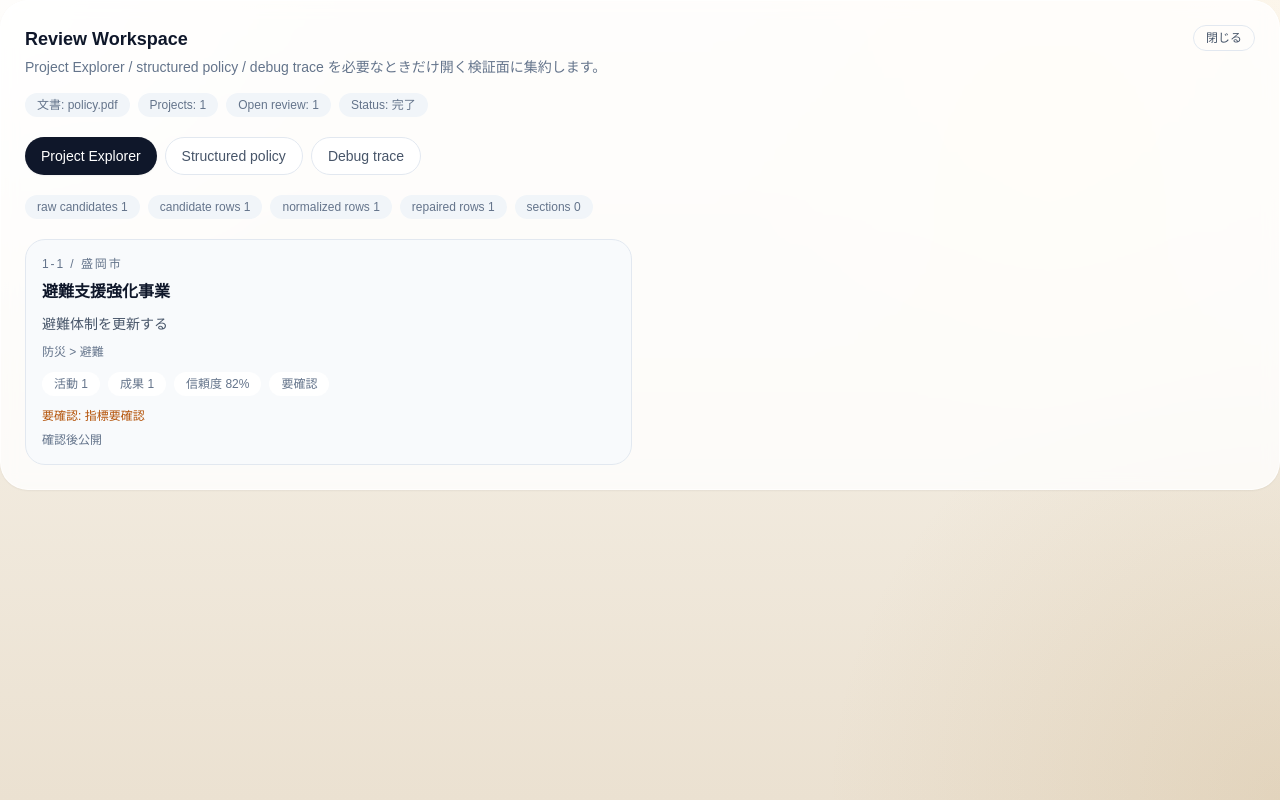
WorkspaceReviewPanel › switches between explorer, policy, and debug views inside the bounded workspace
Check: the heading "避難支援強化事業" is shown, box [42,283,170,300]
Click the button "Structured policy" at (234, 156), box [165,137,303,175]
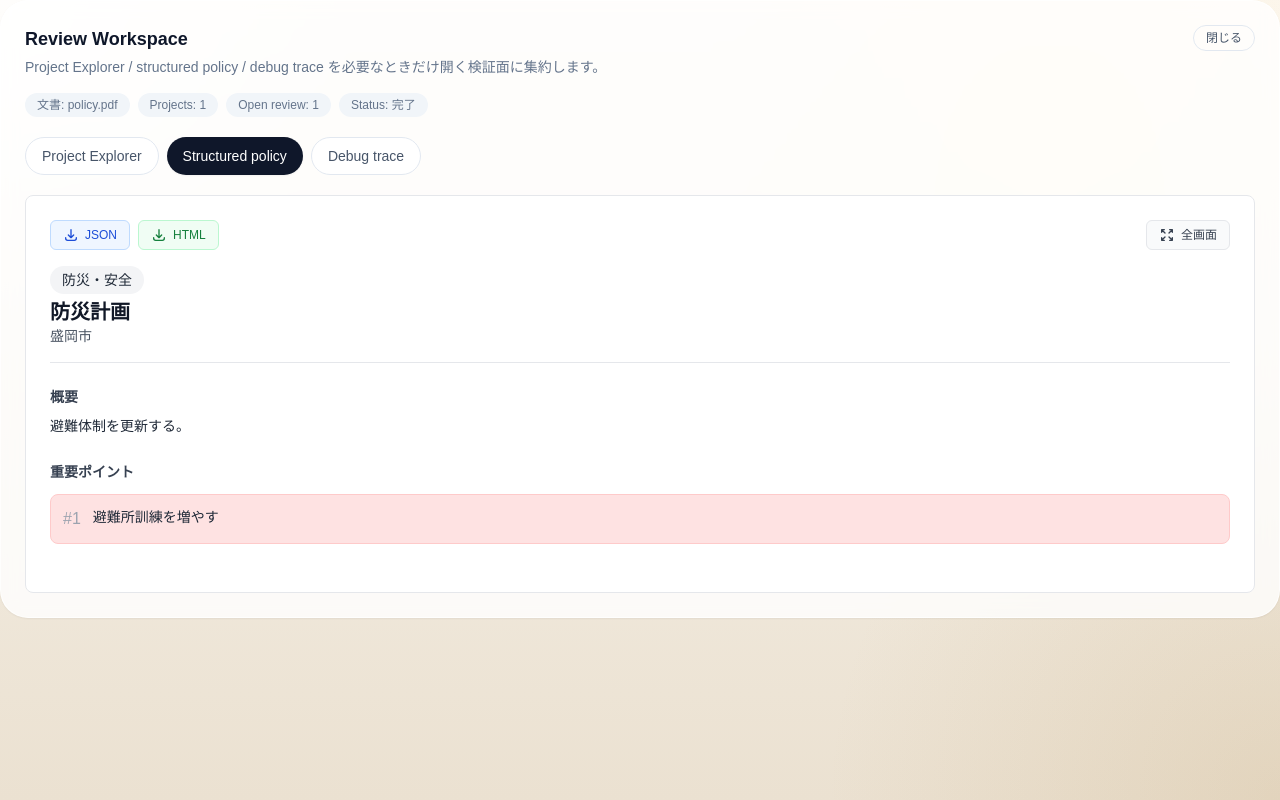
Check: the heading "防災計画" is shown, box [50,298,144,326]
Click the button "Debug trace" at (366, 156), box [311,137,421,175]
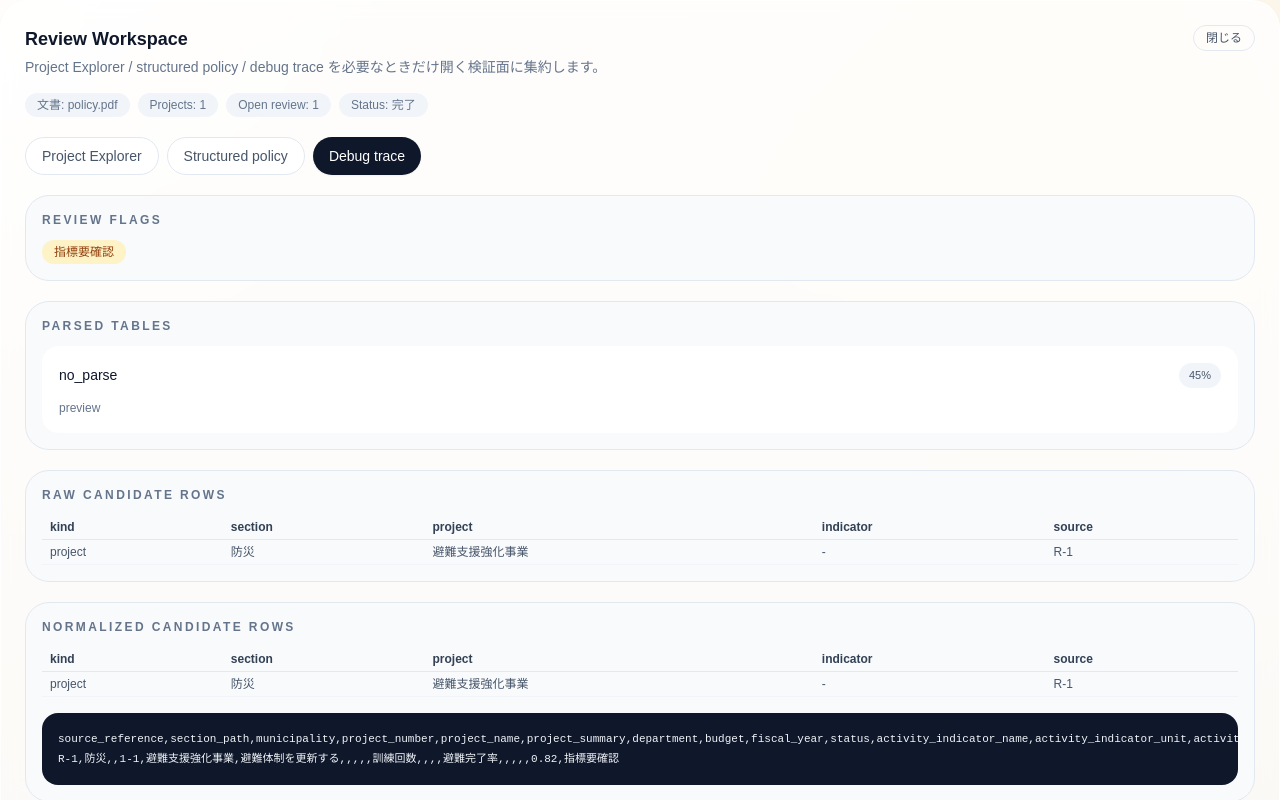
Check: the text "Parsed tables" is shown, box [42,319,173,333]
Check: the text "指標要確認" is shown, box [42,240,126,264]
